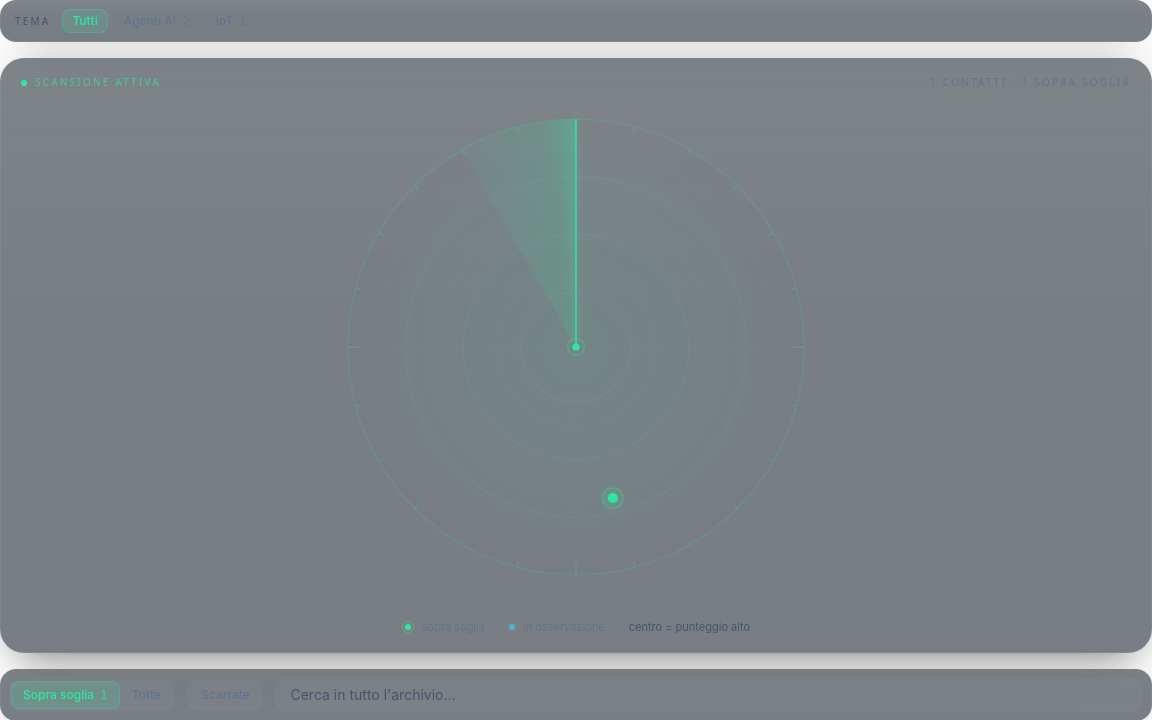
Test case: RadarView › nessun risultato di ricerca: lo dice, senza svuotare il quadrante
Type "zzz" into the field labelled "Cerca in tutto l'archivio".
click(709, 694); type("zzz")  # box [276, 678, 1143, 712]
(page scrolled)
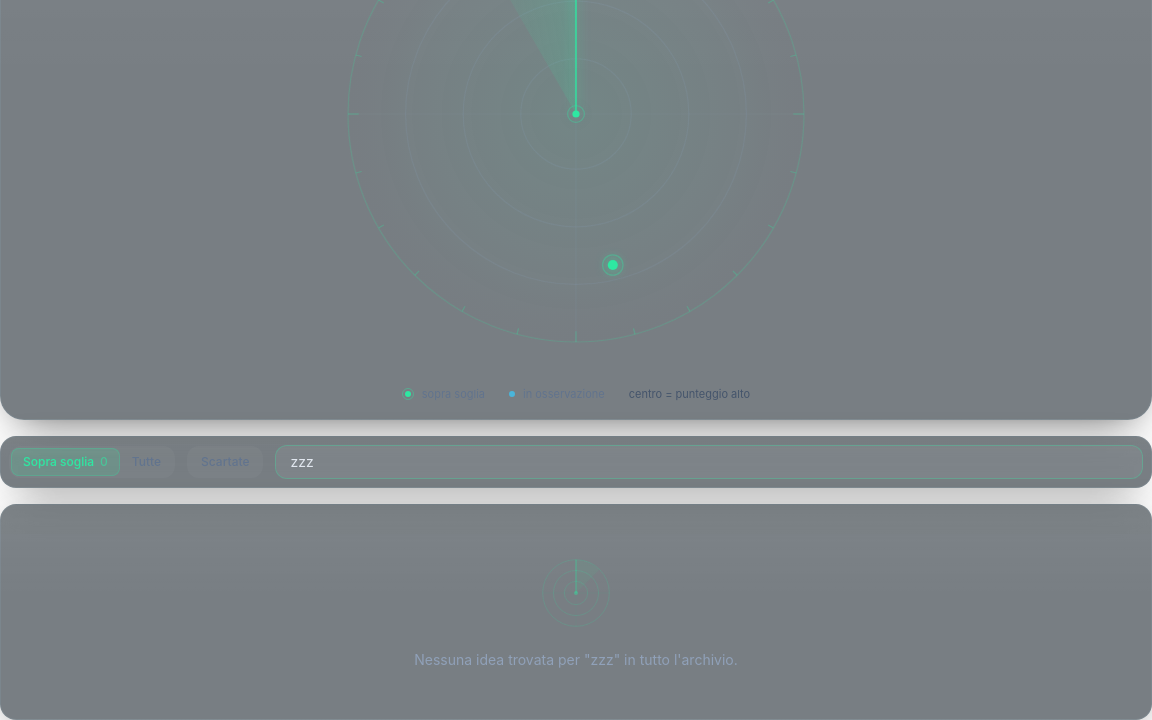
expect the text "Nessuna idea trovata per \"zzz\" in tutto l'archivio." is shown: met, box [414, 650, 738, 668]
